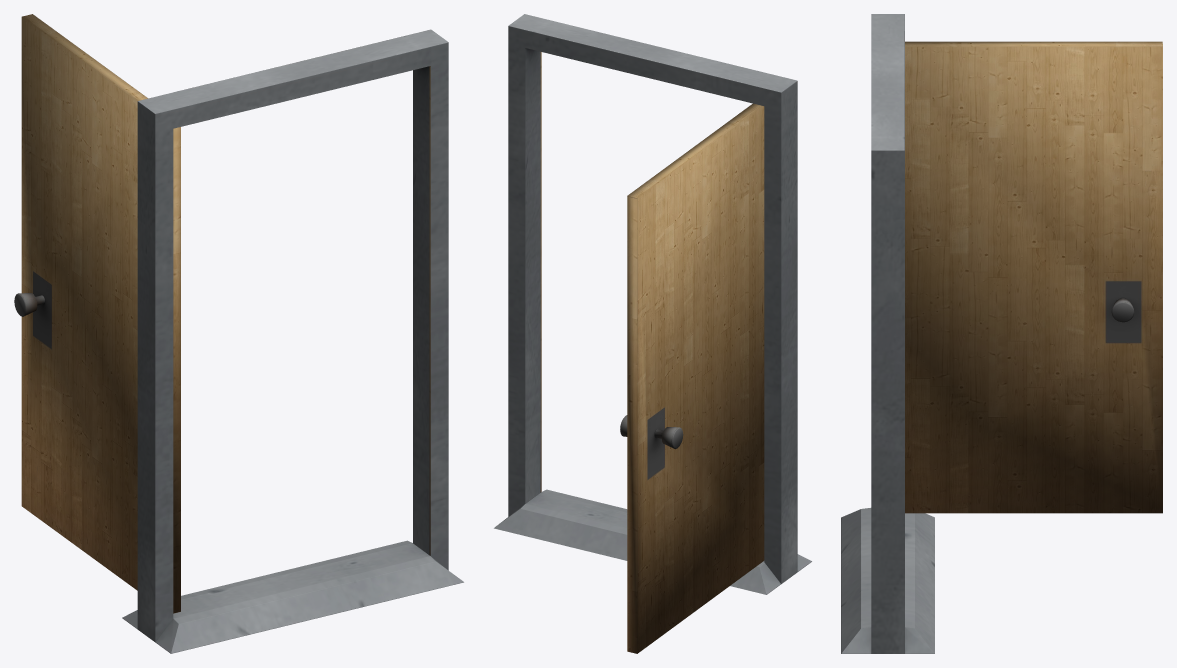
Rendered from wooden_door_fix.glb.
3 renders of one model, left to right at view 1: azimuth 30°, elevation 25°; view 2: azimuth 150°, elevation 25°; view 3: azimuth 270°, elevation 25°, orthographic. The views are drawn at different scales.
Parts seen in each view (by area): view 1: Doorway_Baked.002_2, Cube.009_Baked.002_0; view 2: Cube.009_Baked.002_0, Doorway_Baked.002_2; view 3: Cube.009_Baked.002_0, Doorway_Baked.002_2.
Boxes of the visible parts, x1,y1,x2,y2 form: Doorway_Baked.002_2: (122, 29, 463, 653); Cube.009_Baked.002_0: (14, 14, 180, 613); Cube.009_Baked.002_0: (620, 103, 764, 653); Doorway_Baked.002_2: (494, 14, 811, 594); Cube.009_Baked.002_0: (905, 41, 1162, 513); Doorway_Baked.002_2: (841, 14, 934, 653).
Size of the model in its own units: 1.82 by 3.08 by 1.79.
2 materials, 2 textured.
